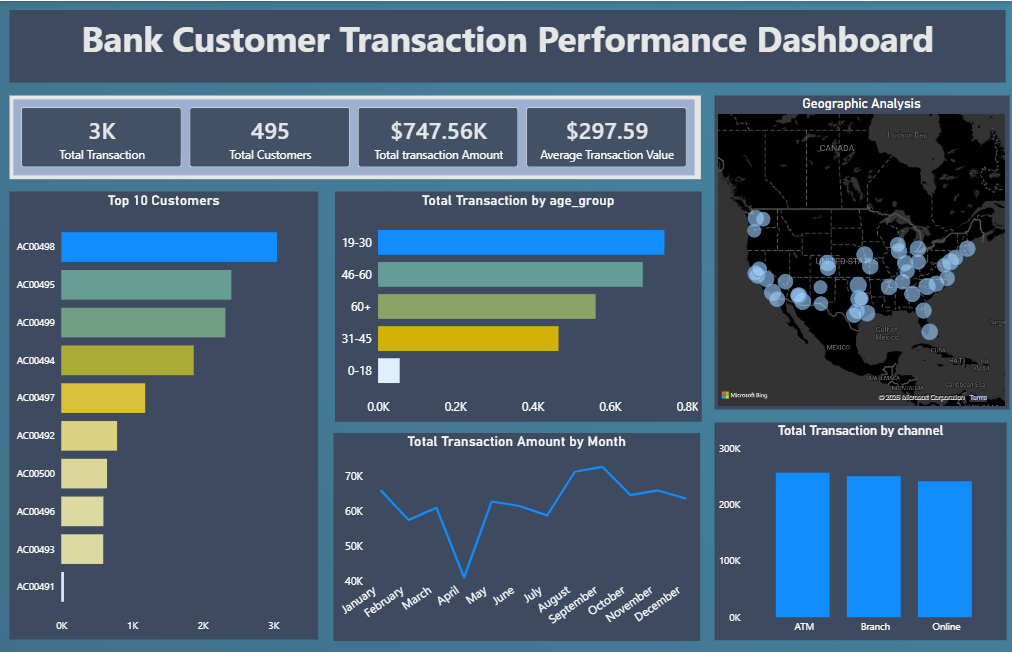

Layout of this report page (visuals, bound fields, positions):
{"tool":"powerbi","page":{"name":"Page 1","canvas":[1400,900],"ordinal":0},"visuals":[{"type":"cardVisual","fields":{"Data":["public bank_transaction.total_transaction","public bank_transaction.total_customers","public bank_transaction.total_transaction_amount","public bank_transaction.average_transaction_value"]},"box":[15,130,952.5,115],"z":0},{"type":"textbox","box":[15,12.5,1372.5,100],"z":1000},{"type":"lineChart","title":"Total Transaction Amount by Month","fields":{"Category":["public bank_transaction.transaction_date.Variation.Date Hierarchy.Month"],"Y":["public bank_transaction.total_transaction_amount"]},"box":[461.3,594.7,505.1,286.4],"z":2000},{"type":"clusteredColumnChart","title":"Total Transaction by channel","fields":{"Category":["public bank_transaction.channel"],"Y":["public bank_transaction.total_transaction_amount"]},"box":[985,580,402.5,300],"z":3000},{"type":"clusteredBarChart","title":"Total Transaction by age_group","fields":{"Y":["public bank_transaction.total_transaction"],"Category":["public bank_transaction.age_group"]},"box":[462.5,262.5,505,317.5],"z":4000},{"type":"clusteredBarChart","title":"Top 10 Customers","fields":{"Y":["public bank_transaction.total_transaction_amount"],"Category":["public bank_transaction.account_id"]},"box":[15,262.5,425,617.5],"z":5000},{"type":"map","title":"Geographic Analysis","fields":{"Size":["public bank_transaction.total_transaction"],"Category":["public bank_transaction.location"]},"box":[985,130,405,432.5],"z":6000}]}

Visuals, with their boxes in screenshot pixels (x1, y1, x2, y2), scaled from the page's 1400x900 canvas onto the 1012x652 screenshot:
cardVisual - public bank_transaction.total_transaction x public bank_transaction.total_customers: pyautogui.locateOnScreen(11, 94, 699, 177)
textbox: pyautogui.locateOnScreen(11, 9, 1003, 82)
"Total Transaction Amount by Month" lineChart: pyautogui.locateOnScreen(333, 431, 699, 638)
"Total Transaction by channel" clusteredColumnChart: pyautogui.locateOnScreen(712, 420, 1003, 638)
"Total Transaction by age_group" clusteredBarChart: pyautogui.locateOnScreen(334, 190, 699, 420)
"Top 10 Customers" clusteredBarChart: pyautogui.locateOnScreen(11, 190, 318, 638)
"Geographic Analysis" map: pyautogui.locateOnScreen(712, 94, 1005, 408)
